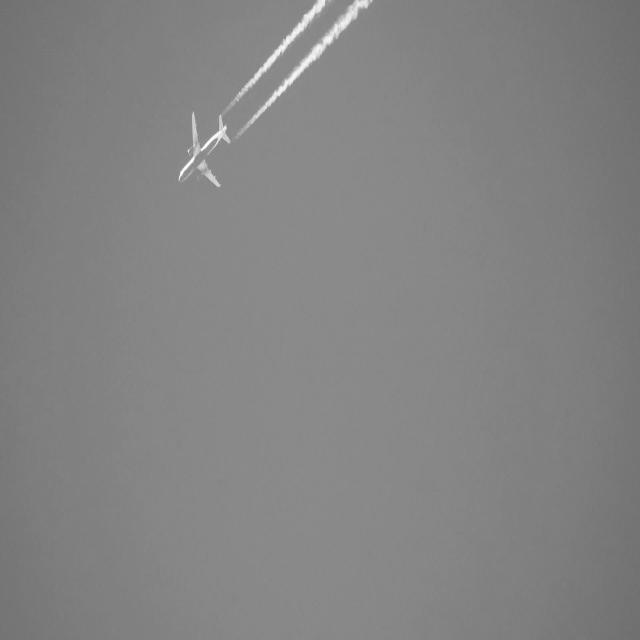aeroplane: (177, 106, 231, 196)
